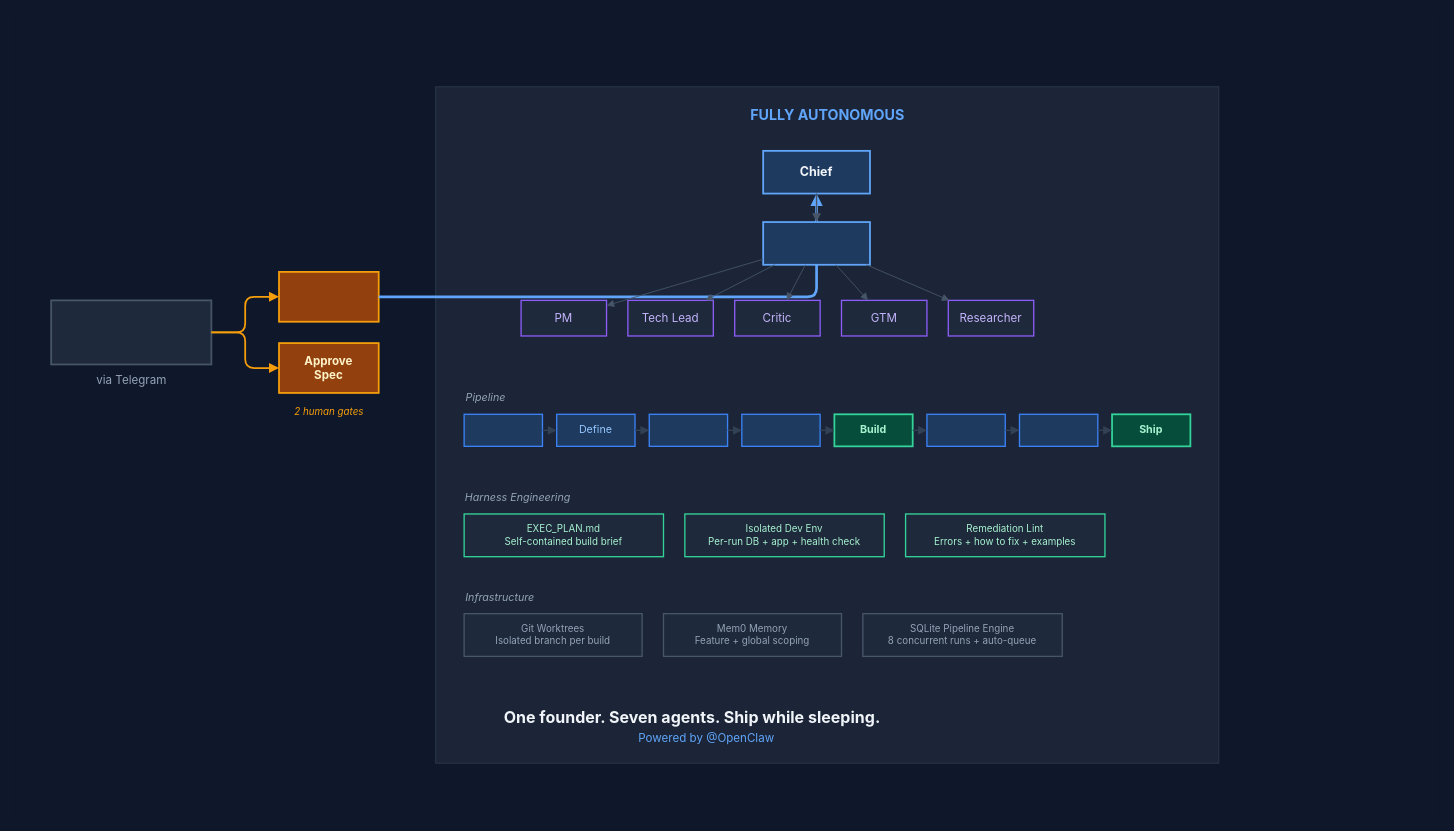
This 1454x831 diagram has some shape labels left out. The centre of each missing label's shape, as x and y in pixels:
"Approve Direction" belongs at point (328, 296).
"Debate" belongs at point (503, 430).
"Orchestrator" belongs at point (816, 243).
"Plan" belongs at point (780, 430).
"Review" belongs at point (966, 430).
"Solo Founder" belongs at point (131, 332).
"Spec" belongs at point (688, 430).
"Verify" belongs at point (1058, 430).
